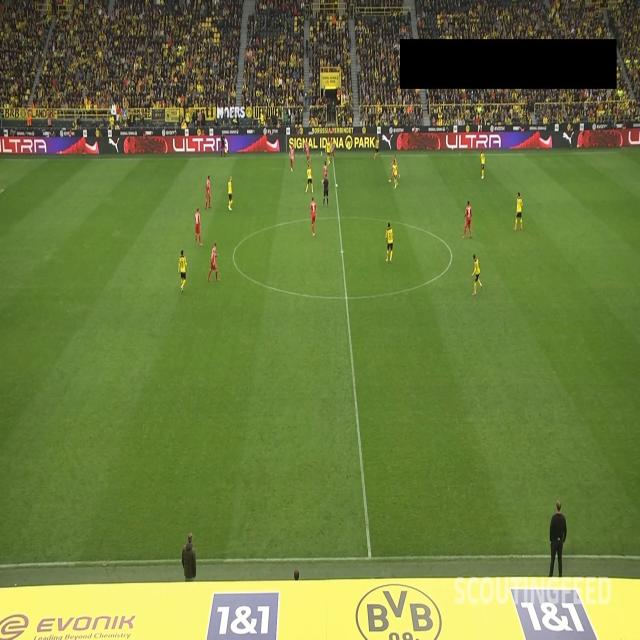ball: (335, 183, 338, 188)
